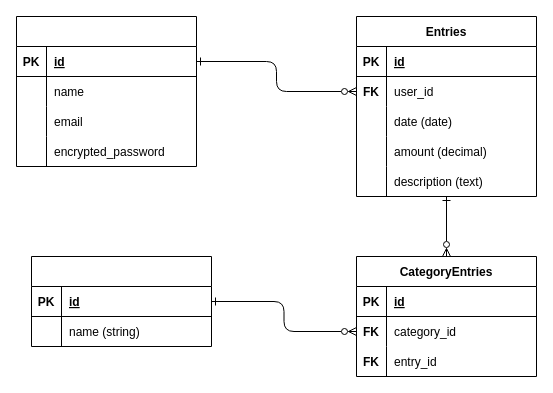
Image size: 553x393. Some labels were removed from this diagram. Here are the shapes that lost their labels. From the top down, the box of each, then its label:
(16, 16, 196, 166): Users
(30, 256, 212, 346): Categories
